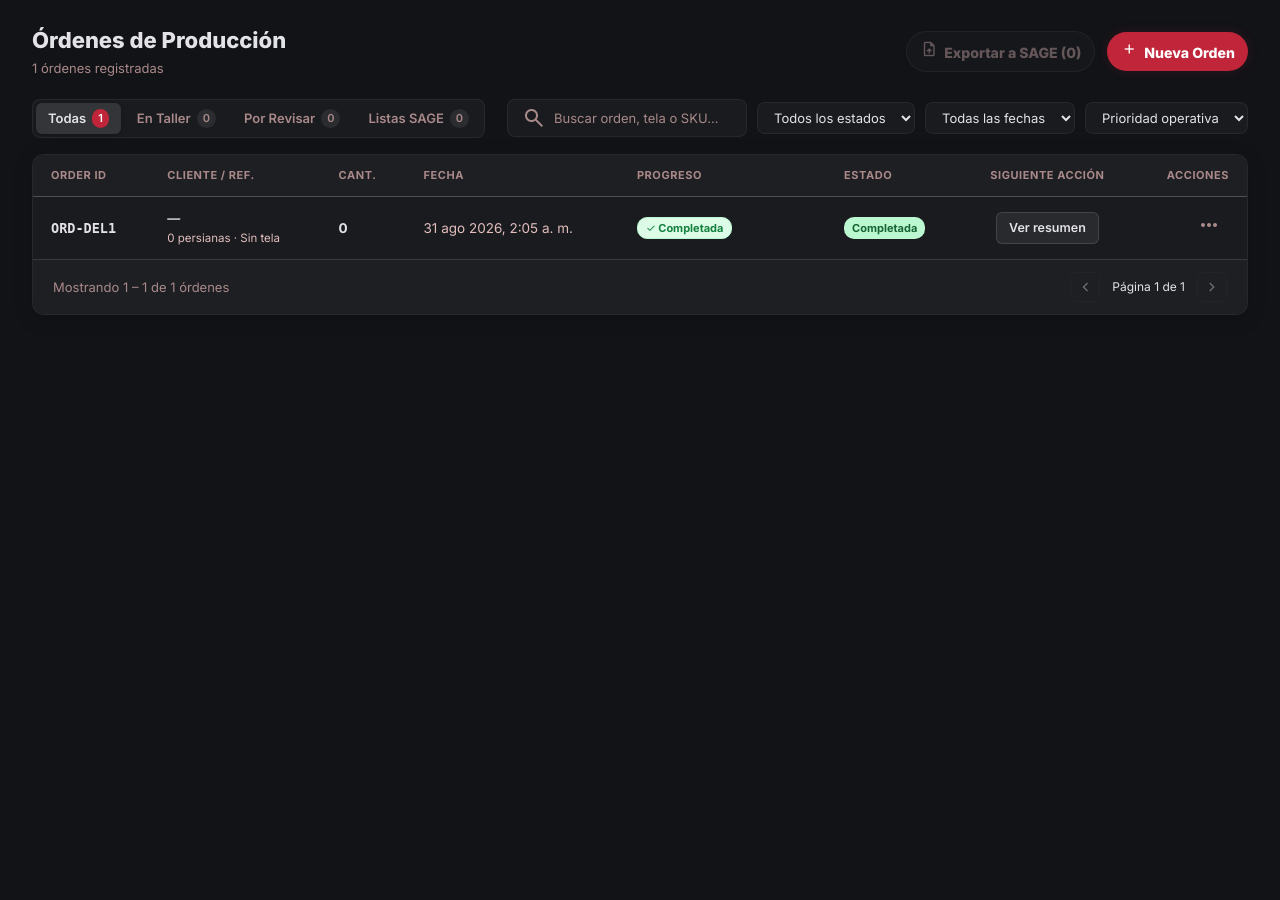
Test: SavedOrdersPanel — Operational UX Overhaul › 5. Cancel vs Delete Modals › opens Delete modal with administrative soft-delete copy
Step 1. Click the button named "Más opciones" → coordinates (1209, 228), box [1189,209,1229,247]
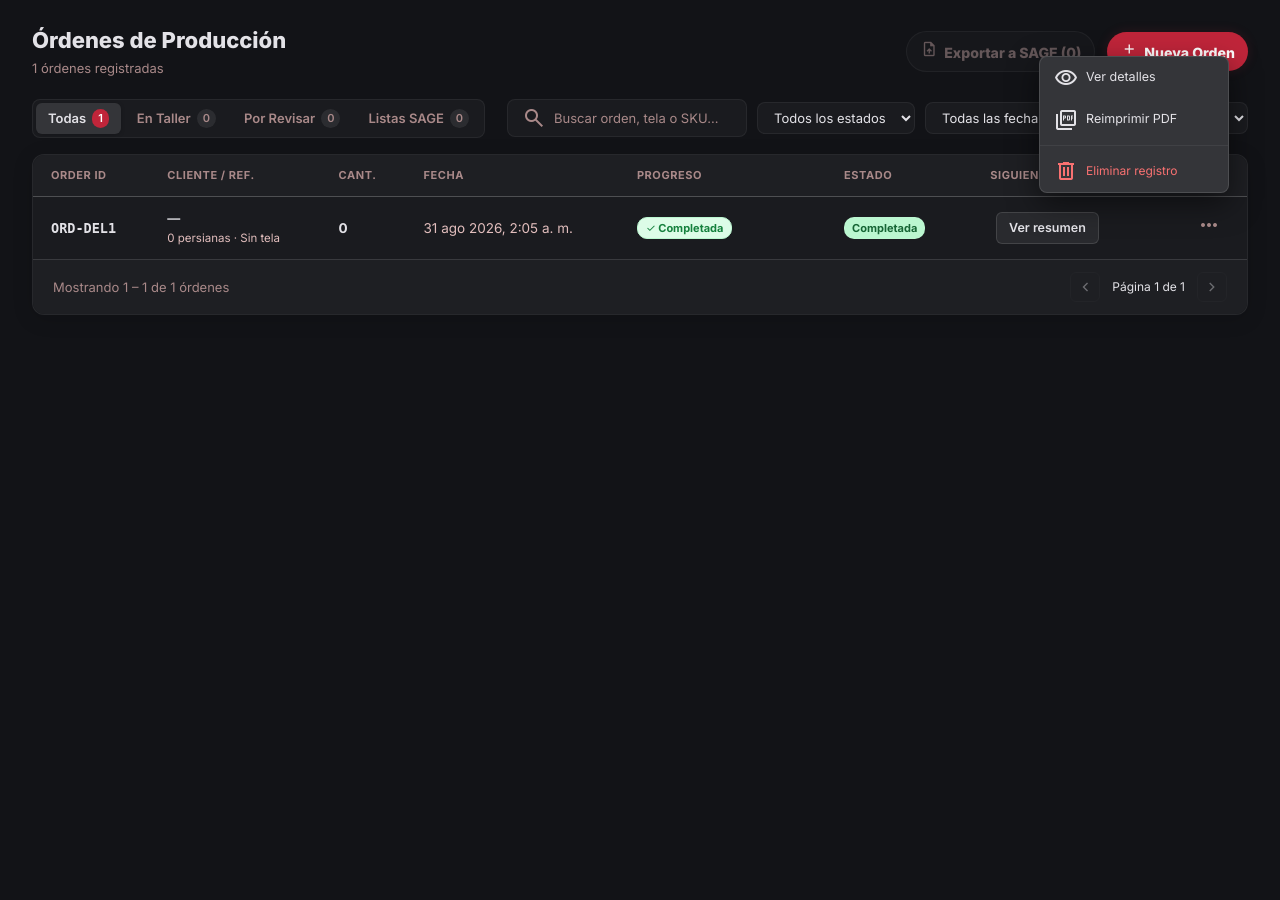
Step 2. Click the button "Eliminar registro" → coordinates (1134, 170), box [1040,150,1228,192]
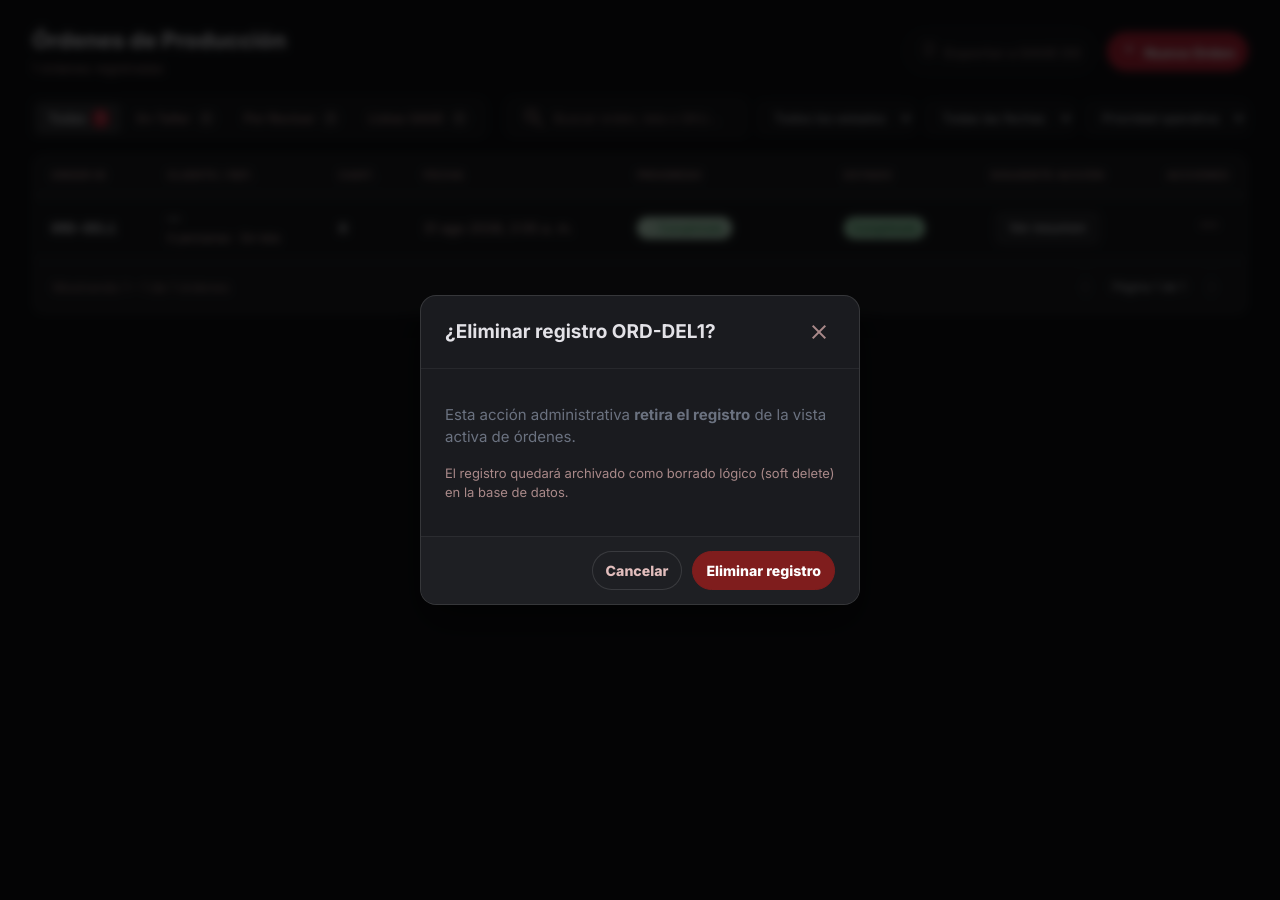
Check: the heading "¿Eliminar registro ORD-DEL1?" is shown, box [445,318,716,346]
Check: the text "retira el registro" is shown, box [634,405,750,424]
